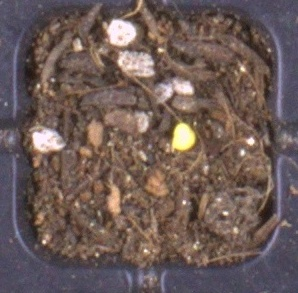chilli seed: (172, 122, 197, 151)
